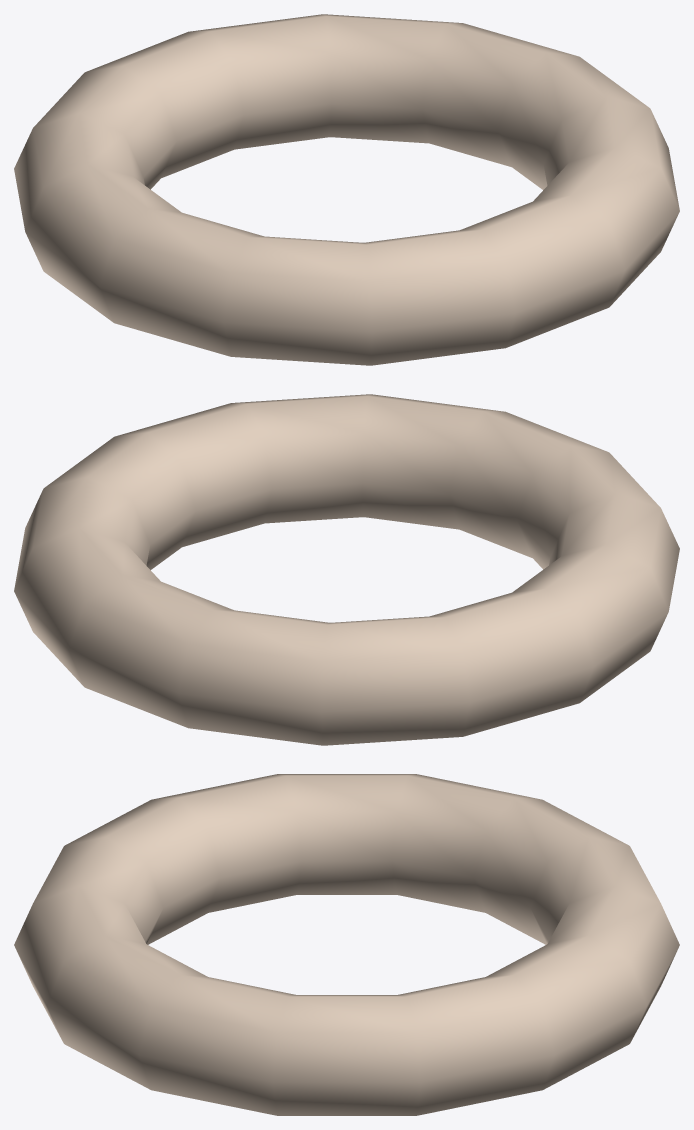
Rendered from swim ring.fbx.
The picture shows the model from 3 angles, top to bottom: view 1: azimuth 30°, elevation 25°; view 2: azimuth 150°, elevation 25°; view 3: azimuth 270°, elevation 25°; orthographic projection.
Parts seen in each view (by area): view 1: Torus001; view 2: Torus001; view 3: Torus001.
Part boxes in pixels (x1,y1,x2,y2): Torus001: (14, 14, 679, 365); Torus001: (14, 394, 679, 745); Torus001: (14, 774, 679, 1115).
Size of the model in its own units: 131 by 26.17 by 135.
